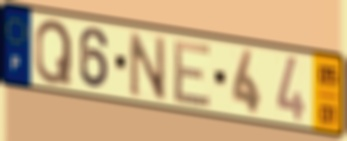4: (230, 47, 263, 118), (275, 53, 307, 126)
6: (78, 25, 111, 91)
E: (172, 38, 214, 110)
N: (127, 29, 168, 103)
Q: (33, 18, 74, 87)
